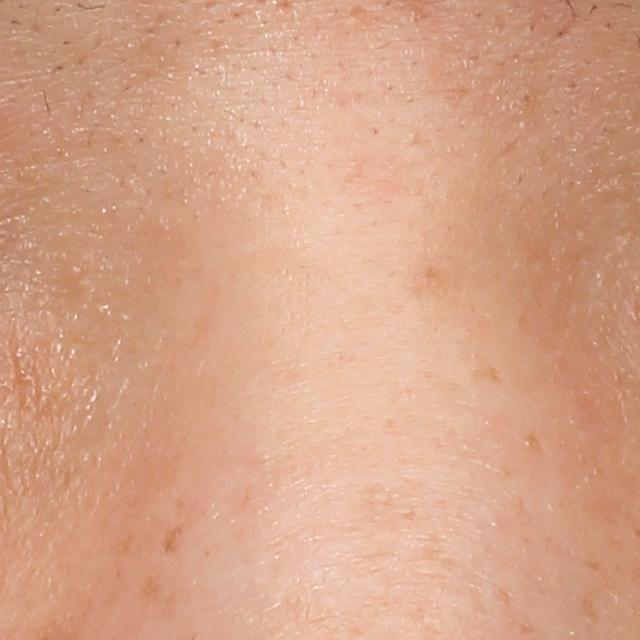melasma: (157, 487, 210, 562), (138, 572, 184, 622), (579, 590, 604, 624)
